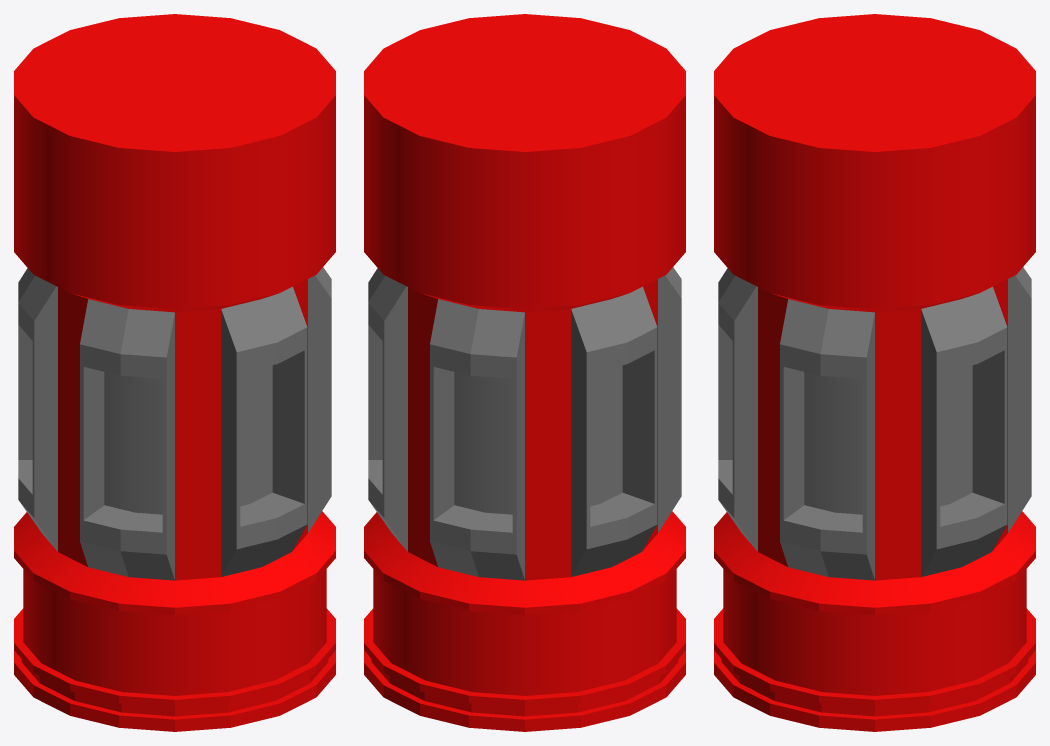
3 views of the same model, side by side, from view 1: azimuth 30°, elevation 25°; view 2: azimuth 150°, elevation 25°; view 3: azimuth 270°, elevation 25° (orthographic).
Visible parts, largest first — view 1: Cylinder001; view 2: Cylinder001; view 3: Cylinder001.
Boxes of the visible parts, bbox=[...] form: Cylinder001: bbox=[14, 14, 335, 731]; Cylinder001: bbox=[364, 14, 685, 731]; Cylinder001: bbox=[714, 14, 1035, 731].
Bounding box in the file's own units: 30 × 58.74 × 29.54.
